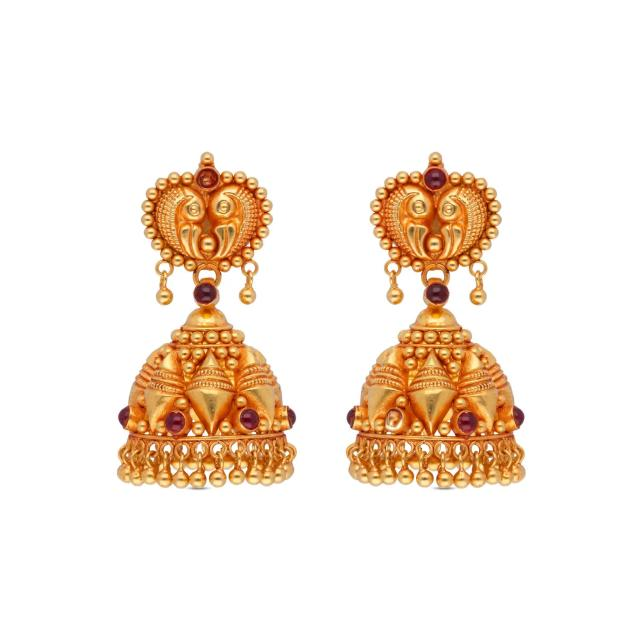missing gem: (197, 168, 218, 190), (386, 409, 402, 429)
